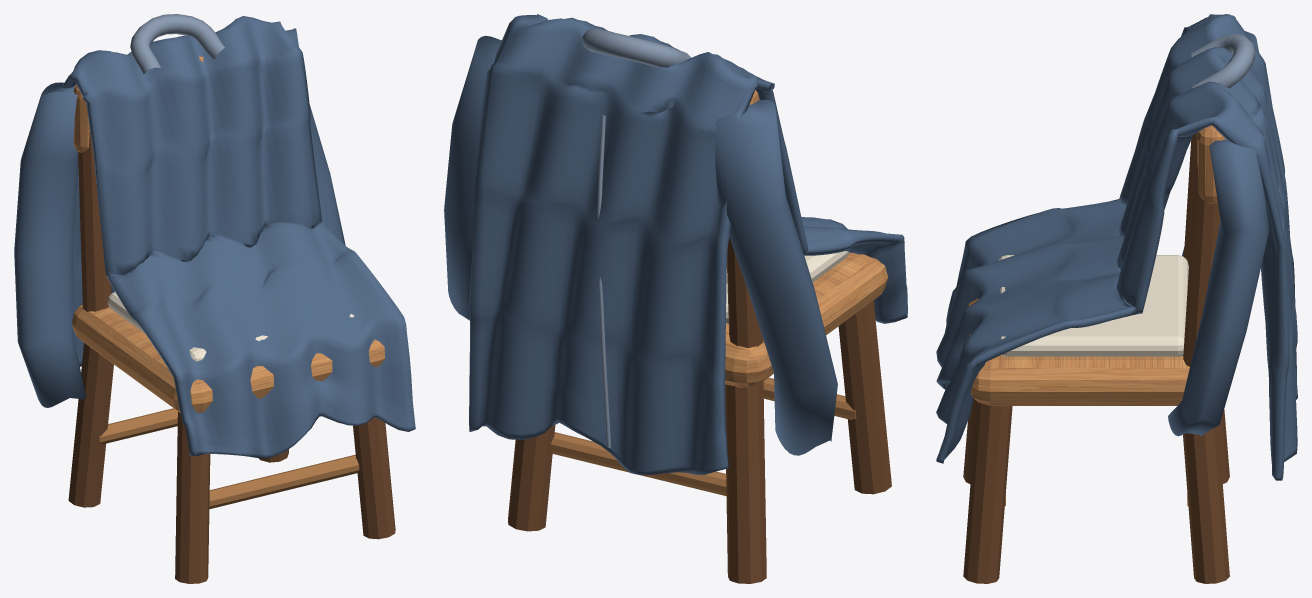
3 renders of one model, left to right at view 1: azimuth 30°, elevation 25°; view 2: azimuth 150°, elevation 25°; view 3: azimuth 270°, elevation 25°, orthographic. The views are drawn at different scales.
Parts seen in each view (by area): view 1: loft_blue, loft_wood_dark, loft_oak, loft_wood, loft_blue_light, loft_linen; view 2: loft_blue, loft_wood_dark, loft_oak, loft_blue_light, loft_wood, loft_linen; view 3: loft_blue, loft_wood_dark, loft_oak, loft_linen, loft_blue_light.
Boxes of the visible parts, x1,y1,x2,y2 form: loft_blue: (14,16,415,458); loft_wood_dark: (68,131,395,583); loft_oak: (72,56,384,412); loft_wood: (99,408,359,509); loft_blue_light: (130,14,224,74); loft_linen: (107,292,353,361); loft_blue: (444,14,907,474); loft_wood_dark: (508,237,891,583); loft_oak: (725,90,888,387); loft_blue_light: (582,28,691,447); loft_wood: (550,377,856,496); loft_linen: (726,251,849,324); loft_blue: (936,14,1297,480); loft_wood_dark: (963,133,1229,583); loft_oak: (968,125,1225,405); loft_linen: (998,255,1188,356); loft_blue_light: (1191,34,1281,198).
Bounding box in the file's own units: 1.02 × 1.34 × 0.9022.
Materials: 6 (1 with a texture image).
